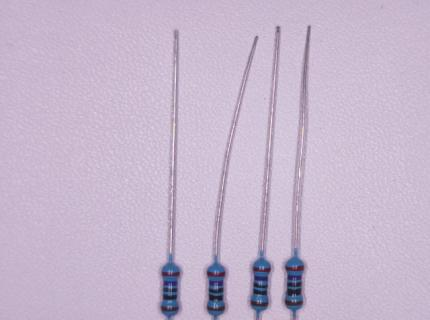Black band: (287, 288, 302, 296), (253, 282, 268, 289), (209, 294, 224, 301), (287, 281, 302, 287), (253, 289, 268, 295), (163, 294, 177, 300), (163, 287, 178, 292), (209, 288, 224, 293)
Brown band: (207, 304, 226, 311), (284, 299, 303, 306), (161, 305, 179, 312), (250, 300, 269, 306)
Red band: (206, 271, 225, 277), (285, 265, 304, 271), (253, 266, 271, 272), (162, 272, 180, 276)
Violet band: (163, 280, 178, 286), (287, 274, 302, 280), (209, 280, 223, 286), (254, 275, 268, 281)
